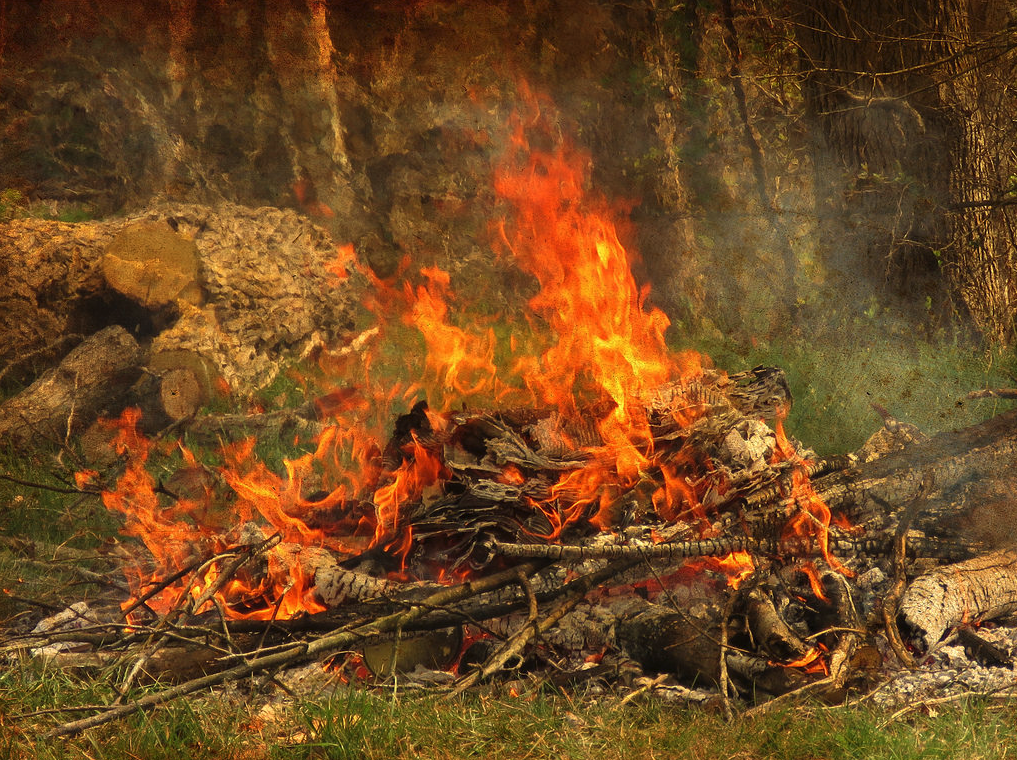fire: (271, 163, 797, 604)
